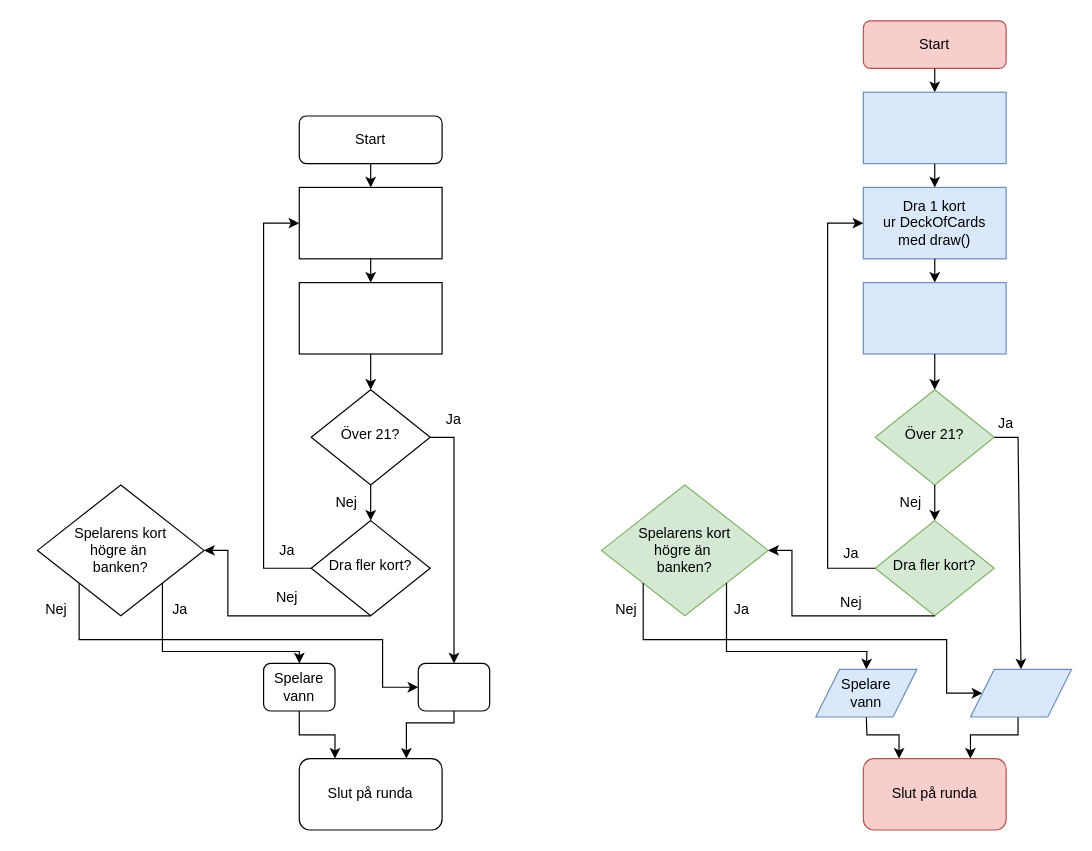
Some shapes in this 1092 by 851 pixel diagram are drawn without their labels. The centre of each missing label's shape, as x and y in pixels:
"Addera värde av kort till Player()'s totalsumma" goes at (x=934, y=317).
"Addera värde på kort till totalsumma" goes at (x=370, y=317).
"Dra kort" goes at (x=370, y=222).
"Skapa spelare Player()" goes at (x=934, y=127).
"Spelare förlorade" goes at (x=1020, y=692).
"Spelare förlorat" goes at (x=453, y=686).
